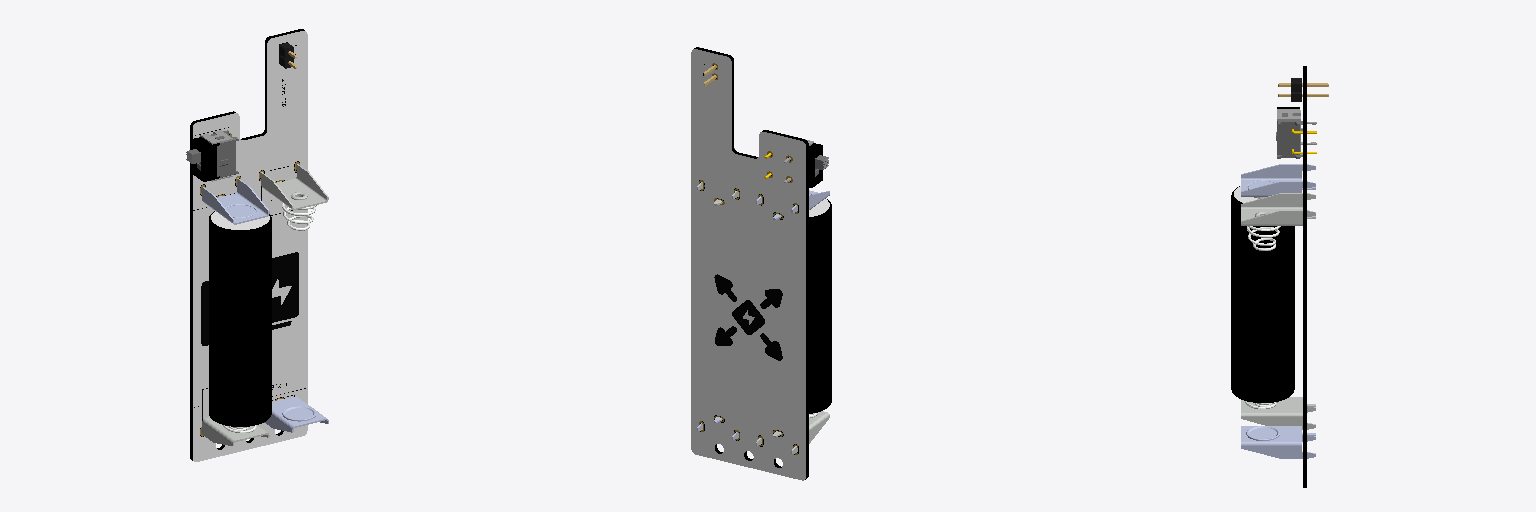
Rendered from BatteryBoard.obj.
3 views of the same model, side by side, from view 1: azimuth 30°, elevation 25°; view 2: azimuth 150°, elevation 25°; view 3: azimuth 270°, elevation 25° (orthographic).
Parts seen in each view (by area): view 1: SHAPE_374_IndexedFaceSet, SHAPE_60_IndexedFaceSet, SHAPE_377_IndexedFaceSet, SHAPE_372_IndexedFaceSet, SHAPE_308_IndexedFaceSet, SHAPE_67_IndexedFaceSet; view 2: SHAPE_376_IndexedFaceSet, SHAPE_60_IndexedFaceSet, SHAPE_378_IndexedFaceSet, SHAPE_372_IndexedFaceSet; view 3: SHAPE_60_IndexedFaceSet, SHAPE_372_IndexedFaceSet, SHAPE_13_IndexedFaceSet.001, SHAPE_318_IndexedFaceSet, SHAPE_14_IndexedFaceSet, SHAPE_309_IndexedFaceSet.001, SHAPE_311_IndexedFaceSet, SHAPE_10_IndexedFaceSet.001, SHAPE_86_IndexedFaceSet, SHAPE_8_IndexedFaceSet.
Part boxes in pixels (bbox=[...]): SHAPE_374_IndexedFaceSet: bbox=[193, 31, 307, 461]; SHAPE_60_IndexedFaceSet: bbox=[209, 222, 271, 425]; SHAPE_377_IndexedFaceSet: bbox=[193, 42, 305, 420]; SHAPE_372_IndexedFaceSet: bbox=[190, 29, 304, 460]; SHAPE_308_IndexedFaceSet: bbox=[276, 179, 324, 208]; SHAPE_67_IndexedFaceSet: bbox=[217, 139, 238, 177]; SHAPE_376_IndexedFaceSet: bbox=[691, 49, 805, 480]; SHAPE_60_IndexedFaceSet: bbox=[809, 210, 831, 412]; SHAPE_378_IndexedFaceSet: bbox=[703, 64, 782, 360]; SHAPE_372_IndexedFaceSet: bbox=[694, 47, 808, 479]; SHAPE_60_IndexedFaceSet: bbox=[1231, 197, 1294, 401]; SHAPE_372_IndexedFaceSet: bbox=[1303, 66, 1306, 487]; SHAPE_13_IndexedFaceSet.001: bbox=[1241, 165, 1315, 177]; SHAPE_318_IndexedFaceSet: bbox=[1241, 194, 1315, 206]; SHAPE_14_IndexedFaceSet: bbox=[1241, 446, 1315, 458]; SHAPE_309_IndexedFaceSet.001: bbox=[1241, 397, 1315, 412]; SHAPE_311_IndexedFaceSet: bbox=[1241, 211, 1315, 223]; SHAPE_10_IndexedFaceSet.001: bbox=[1241, 182, 1315, 194]; SHAPE_86_IndexedFaceSet: bbox=[1278, 124, 1298, 154]; SHAPE_8_IndexedFaceSet: bbox=[1241, 426, 1315, 441].
Bounding box in the file's own units: 33.06 × 102 × 22.19.